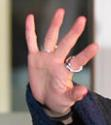down: (24, 6, 101, 111)
